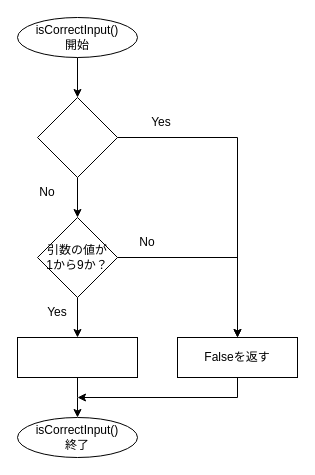
The diagram is 315 pixels wide and 475 high, and some of its shapes have lost their labels. The centre of each missing label's shape, as x and y in pixels:
Trueを返す: the point at 77,357
選択された マス目に初期値以外の 記号は入っているか？: the point at 77,137
